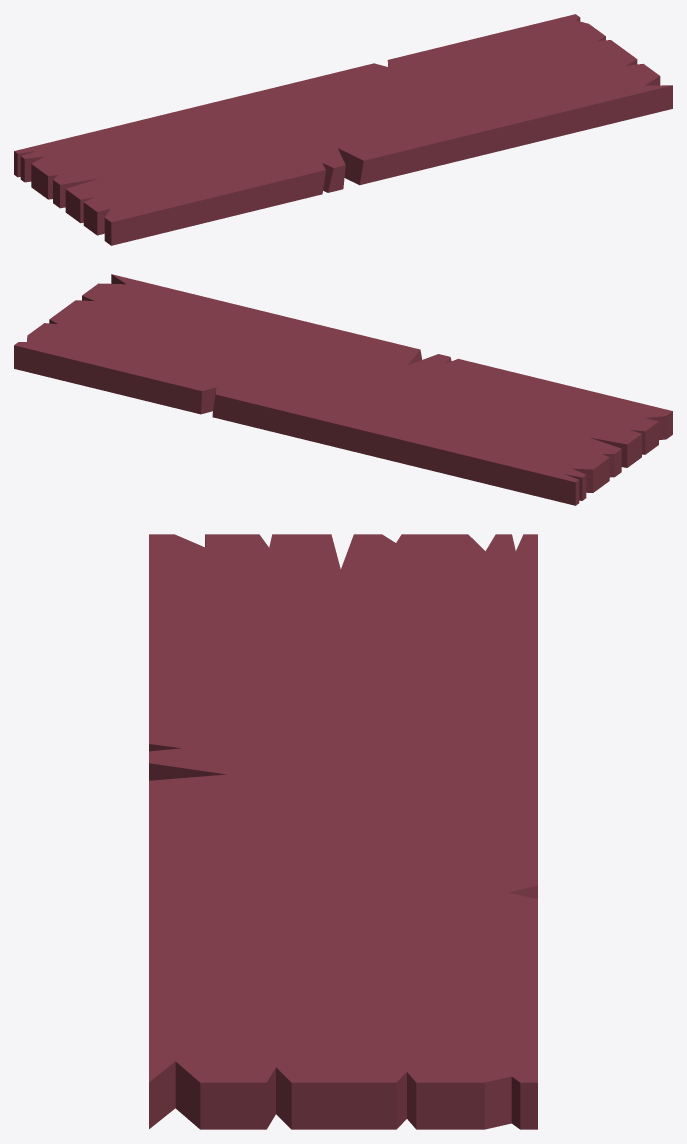
Rendered from PROJECT DREAM - Mall Plank.fbx.
3 renders of one model, top to bottom at view 1: azimuth 30°, elevation 25°; view 2: azimuth 150°, elevation 25°; view 3: azimuth 270°, elevation 25°, orthographic. The views are drawn at different scales.
Parts seen in each view (by area): view 1: Small Plank; view 2: Small Plank; view 3: Small Plank.
Part boxes in pixels (x1=…): Small Plank: x1=14, y1=14, x2=672, y2=245; Small Plank: x1=14, y1=274, x2=672, y2=505; Small Plank: x1=149, y1=534, x2=537, y2=1129.
Bounding box in the file's own units: 500 × 20 × 150.
